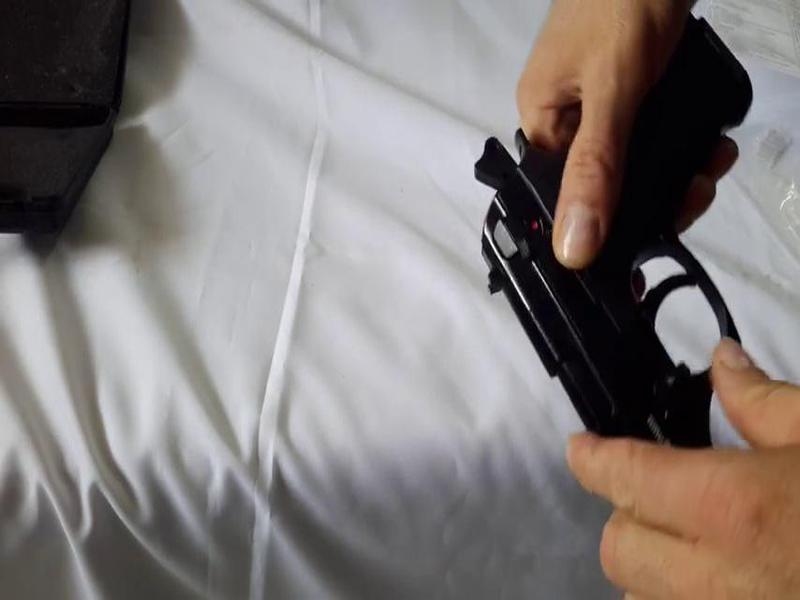Pistola: (448, 7, 785, 511)
